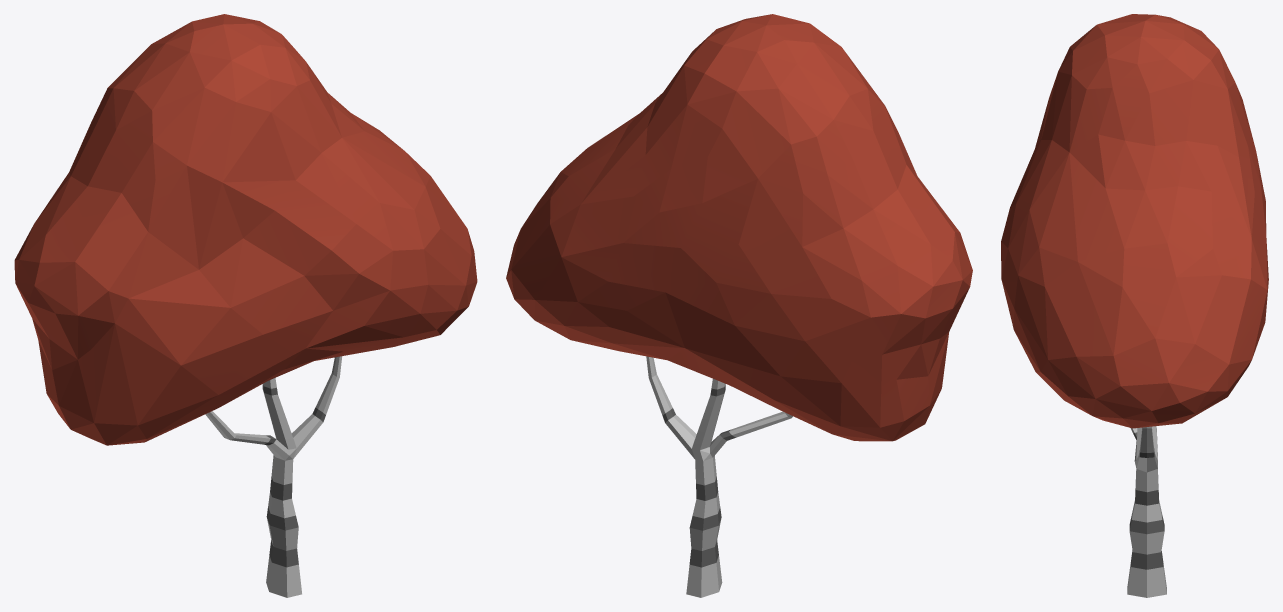
Rendered from birch_2.fbx.
3 renders of one model, left to right at view 1: azimuth 30°, elevation 25°; view 2: azimuth 150°, elevation 25°; view 3: azimuth 270°, elevation 25°, orthographic. The views are drawn at different scales.
Parts seen in each view (by area): view 1: birch_2; view 2: birch_2; view 3: birch_2.
Part boxes in pixels (left/top/right/bottom): birch_2: left=14, top=14, right=477, bottom=597; birch_2: left=506, top=14, right=972, bottom=597; birch_2: left=1001, top=14, right=1268, bottom=597.
Size of the model in its own units: 548 by 700 by 313.
